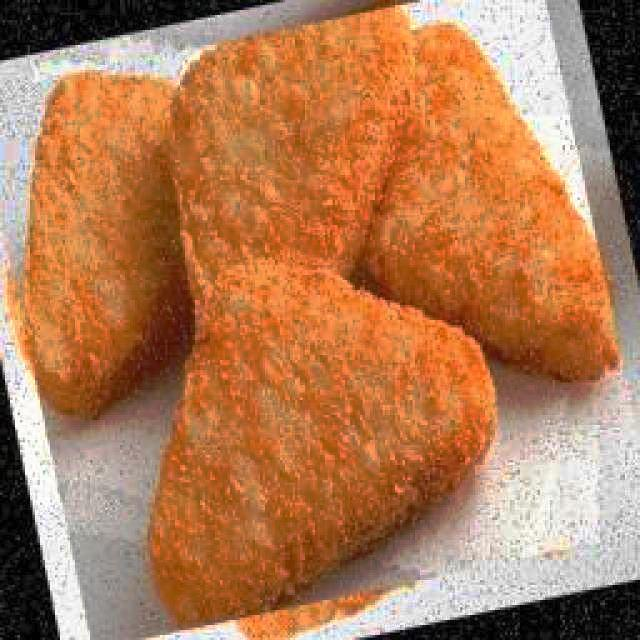Hashbrown: (147, 264, 498, 613), (365, 23, 619, 383), (174, 8, 415, 300), (25, 71, 191, 416)
